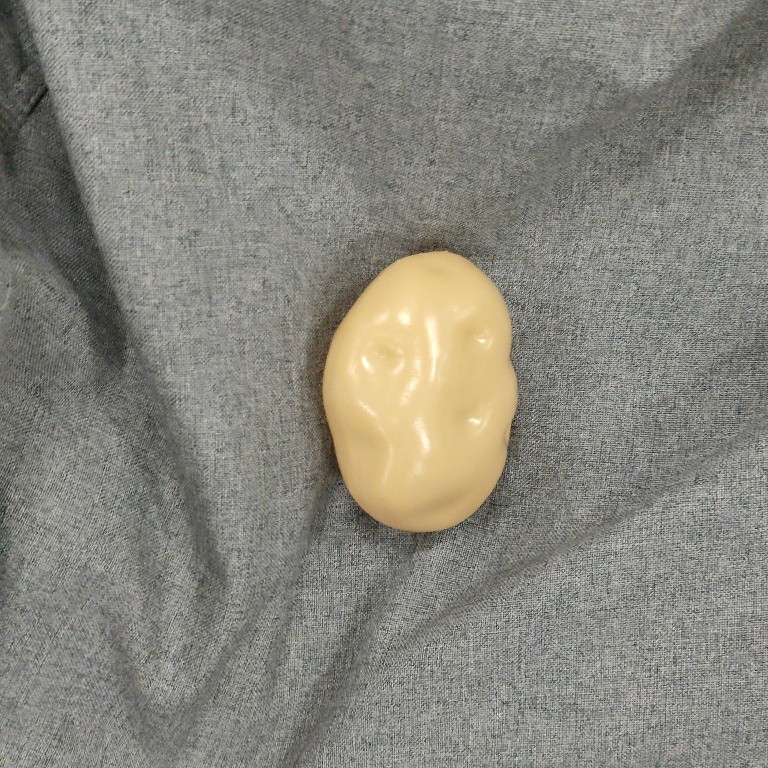fruit_potato: (316, 245, 527, 539)
